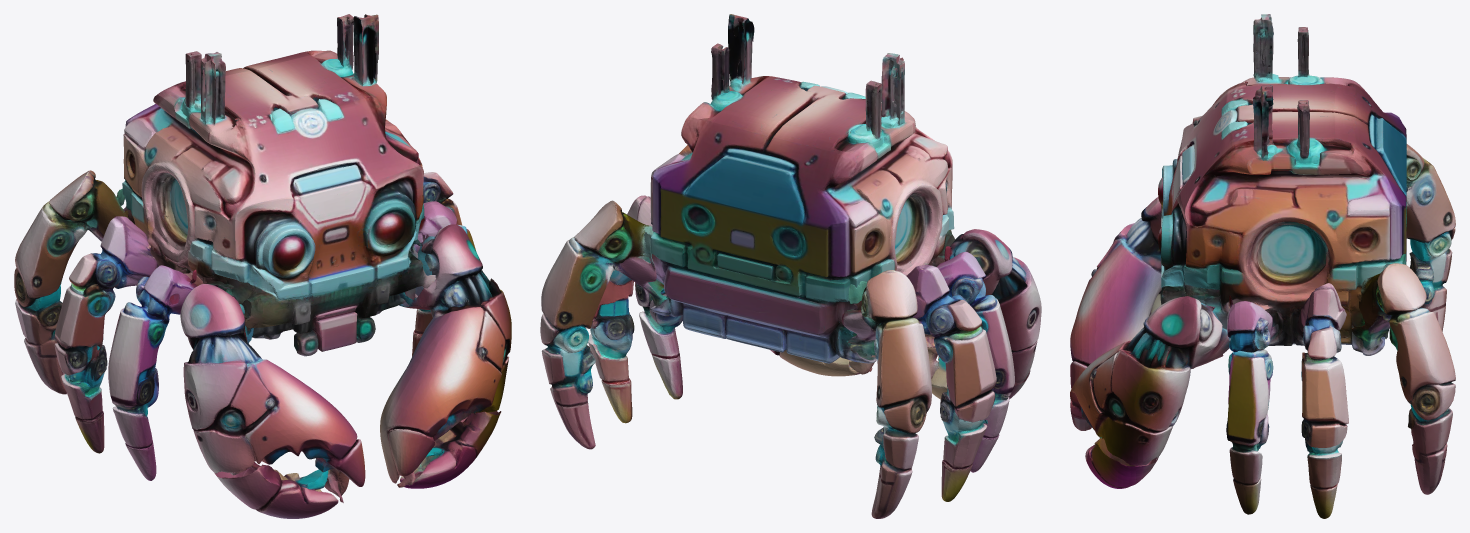
The model's file is typical_creature_robot_crab.glb.
3 renders of one model, left to right at view 1: azimuth 30°, elevation 25°; view 2: azimuth 150°, elevation 25°; view 3: azimuth 270°, elevation 25°, orthographic. The views are drawn at different scales.
Visible parts, largest first — view 1: 0, 1, 3, 6, 7, 5, 2, 4, 9, 8; view 2: 0, 10, 7, 6, 1, 9, 5, 8, 4, 2; view 3: 0, 3, 10, 1, 9, 8, 7, 4.
Boxes of the visible parts, <box> form: 0: <box>122,14,436,356</box>; 1: <box>180,284,365,502</box>; 3: <box>380,224,511,487</box>; 6: <box>54,216,158,453</box>; 7: <box>14,170,128,394</box>; 5: <box>108,265,196,480</box>; 2: <box>214,462,338,518</box>; 4: <box>400,411,501,488</box>; 9: <box>412,172,461,356</box>; 8: <box>414,201,476,252</box>; 0: <box>649,14,955,363</box>; 10: <box>540,200,666,449</box>; 7: <box>842,270,931,518</box>; 6: <box>906,265,996,501</box>; 1: <box>925,229,1041,383</box>; 9: <box>585,195,652,423</box>; 5: <box>936,246,1014,472</box>; 8: <box>635,282,682,399</box>; 4: <box>770,350,860,376</box>; 2: <box>931,356,1030,399</box>; 0: <box>1158,14,1406,355</box>; 3: <box>1070,296,1230,465</box>; 10: <box>1351,263,1455,494</box>; 1: <box>1070,197,1161,388</box>; 9: <box>1296,283,1348,518</box>; 8: <box>1226,295,1278,514</box>; 7: <box>1406,144,1455,331</box>; 4: <box>1085,437,1158,488</box>.
Bounding box in the file's own units: 0.9743 × 0.941 × 0.8267.
11 materials, 11 textured.
